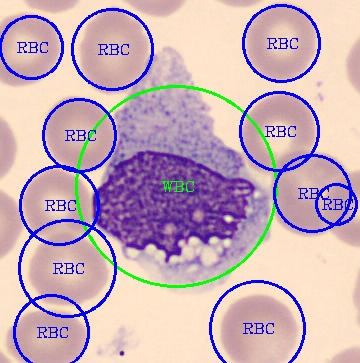RBC: (270, 147, 348, 239), (239, 89, 317, 176), (26, 228, 111, 307), (78, 3, 150, 96), (243, 0, 318, 82), (41, 94, 115, 173), (217, 291, 300, 361), (21, 166, 90, 240), (3, 307, 89, 362), (0, 11, 60, 88)
WBC: (88, 51, 266, 292)
